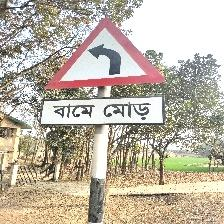Left-Turn: (39, 16, 168, 129)
